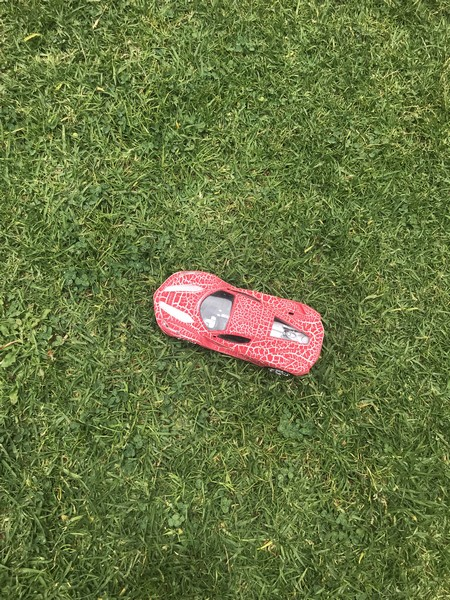RC: (151, 265, 327, 382)
